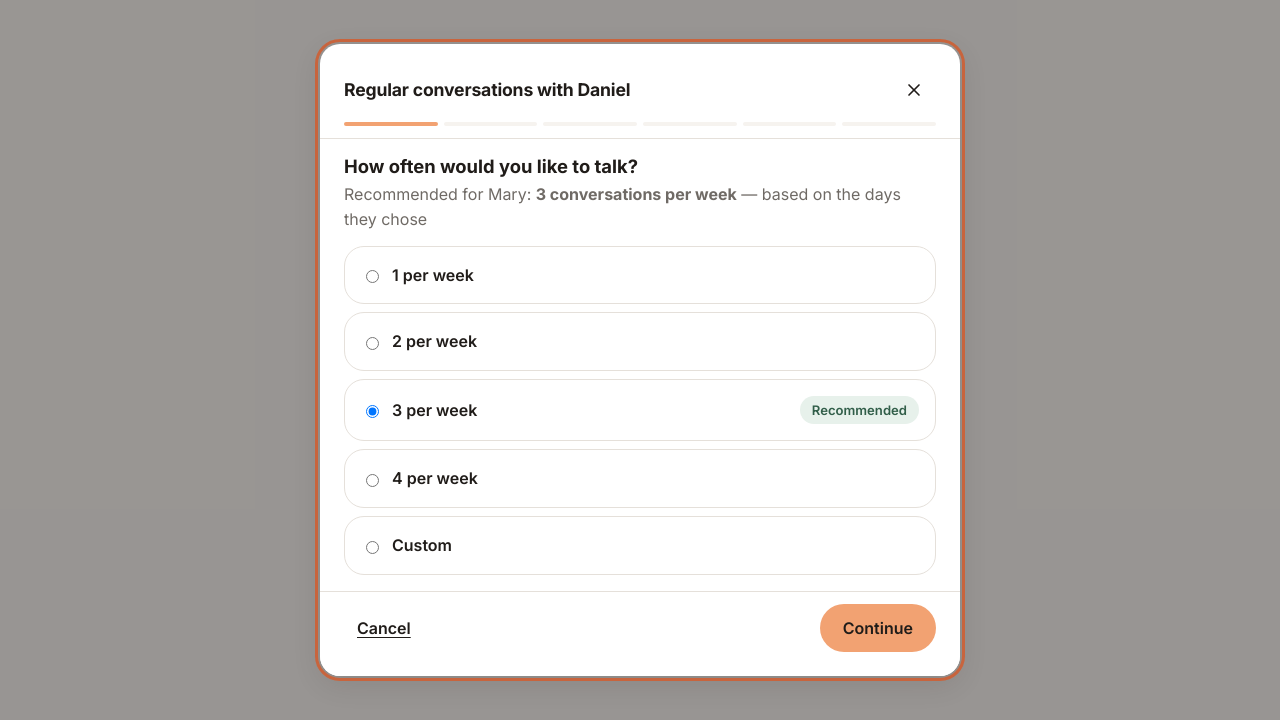
Test: in-app calls › no method step exists — there is only one channel
This screenshot has width=1280, height=720.
Check: the heading "How often would you like to talk?" is shown, box x1=344 y1=155 x2=638 y2=177
Click the button "Continue".
click(878, 628)  # box x1=820 y1=604 x2=936 y2=652
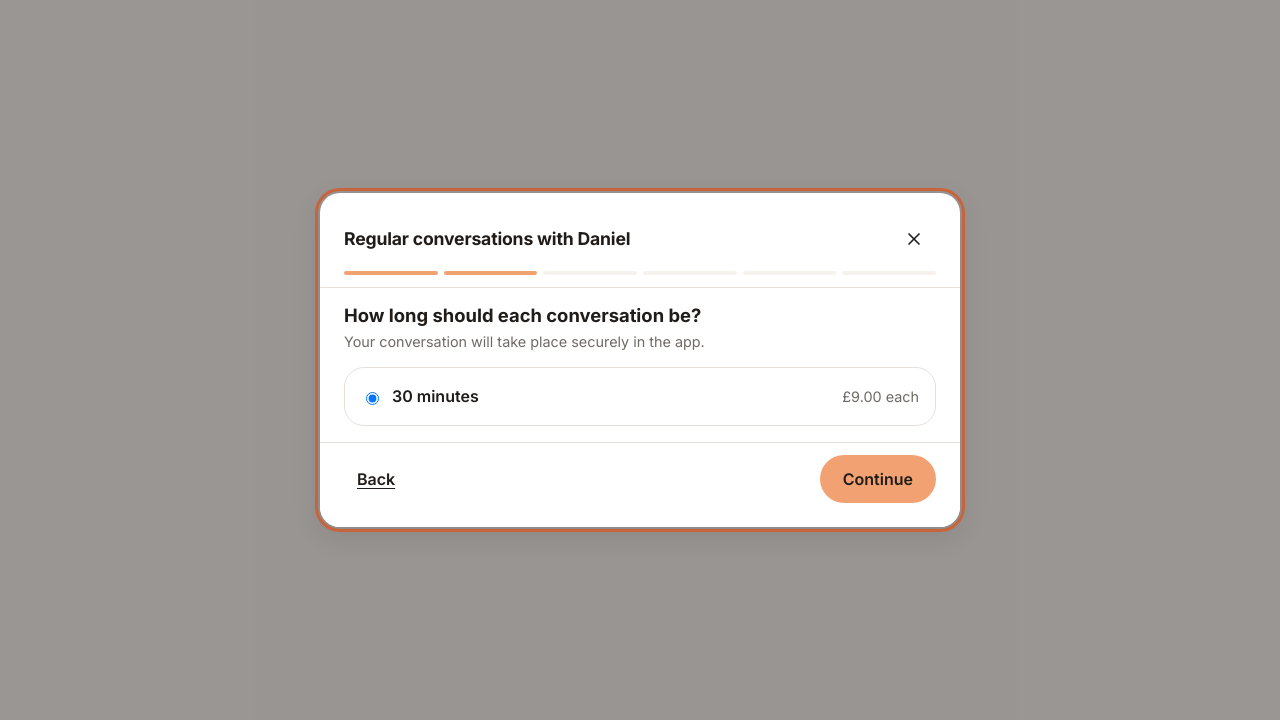
Click the button "Continue".
click(878, 479)  # box x1=820 y1=455 x2=936 y2=503
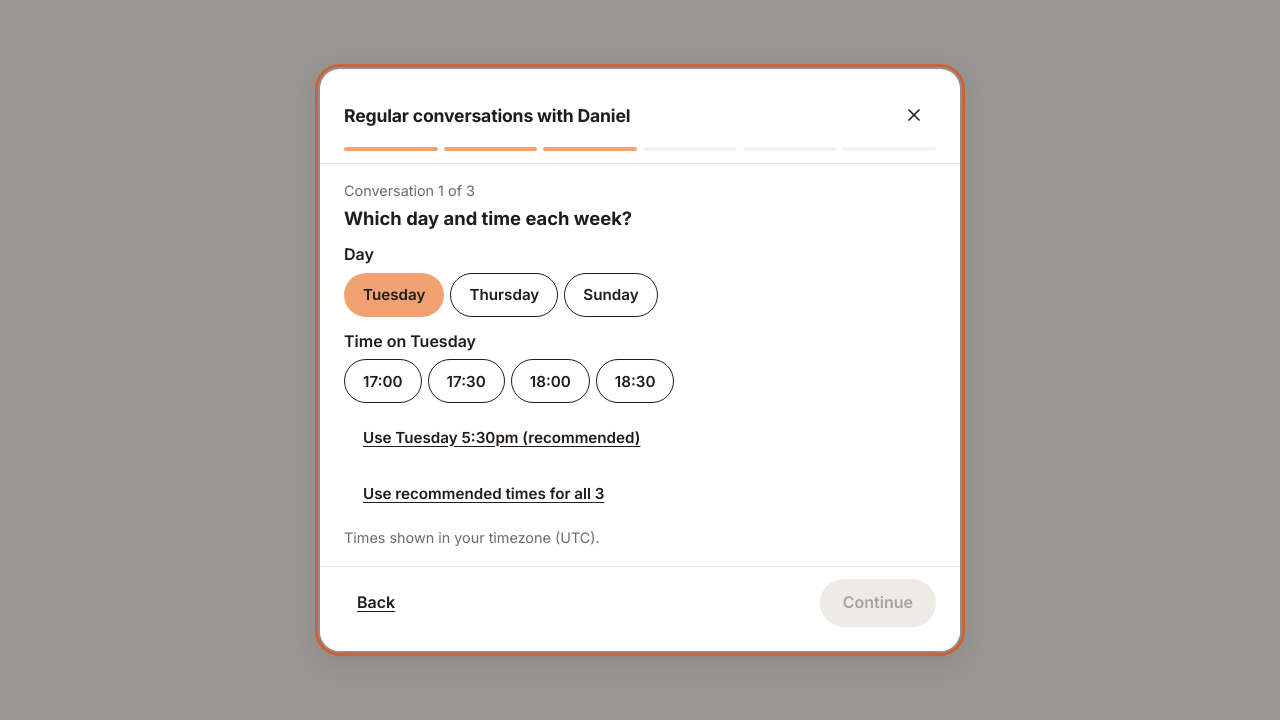
Check: the text "Conversation 1 of 3" is shown, box x1=344 y1=182 x2=475 y2=199
